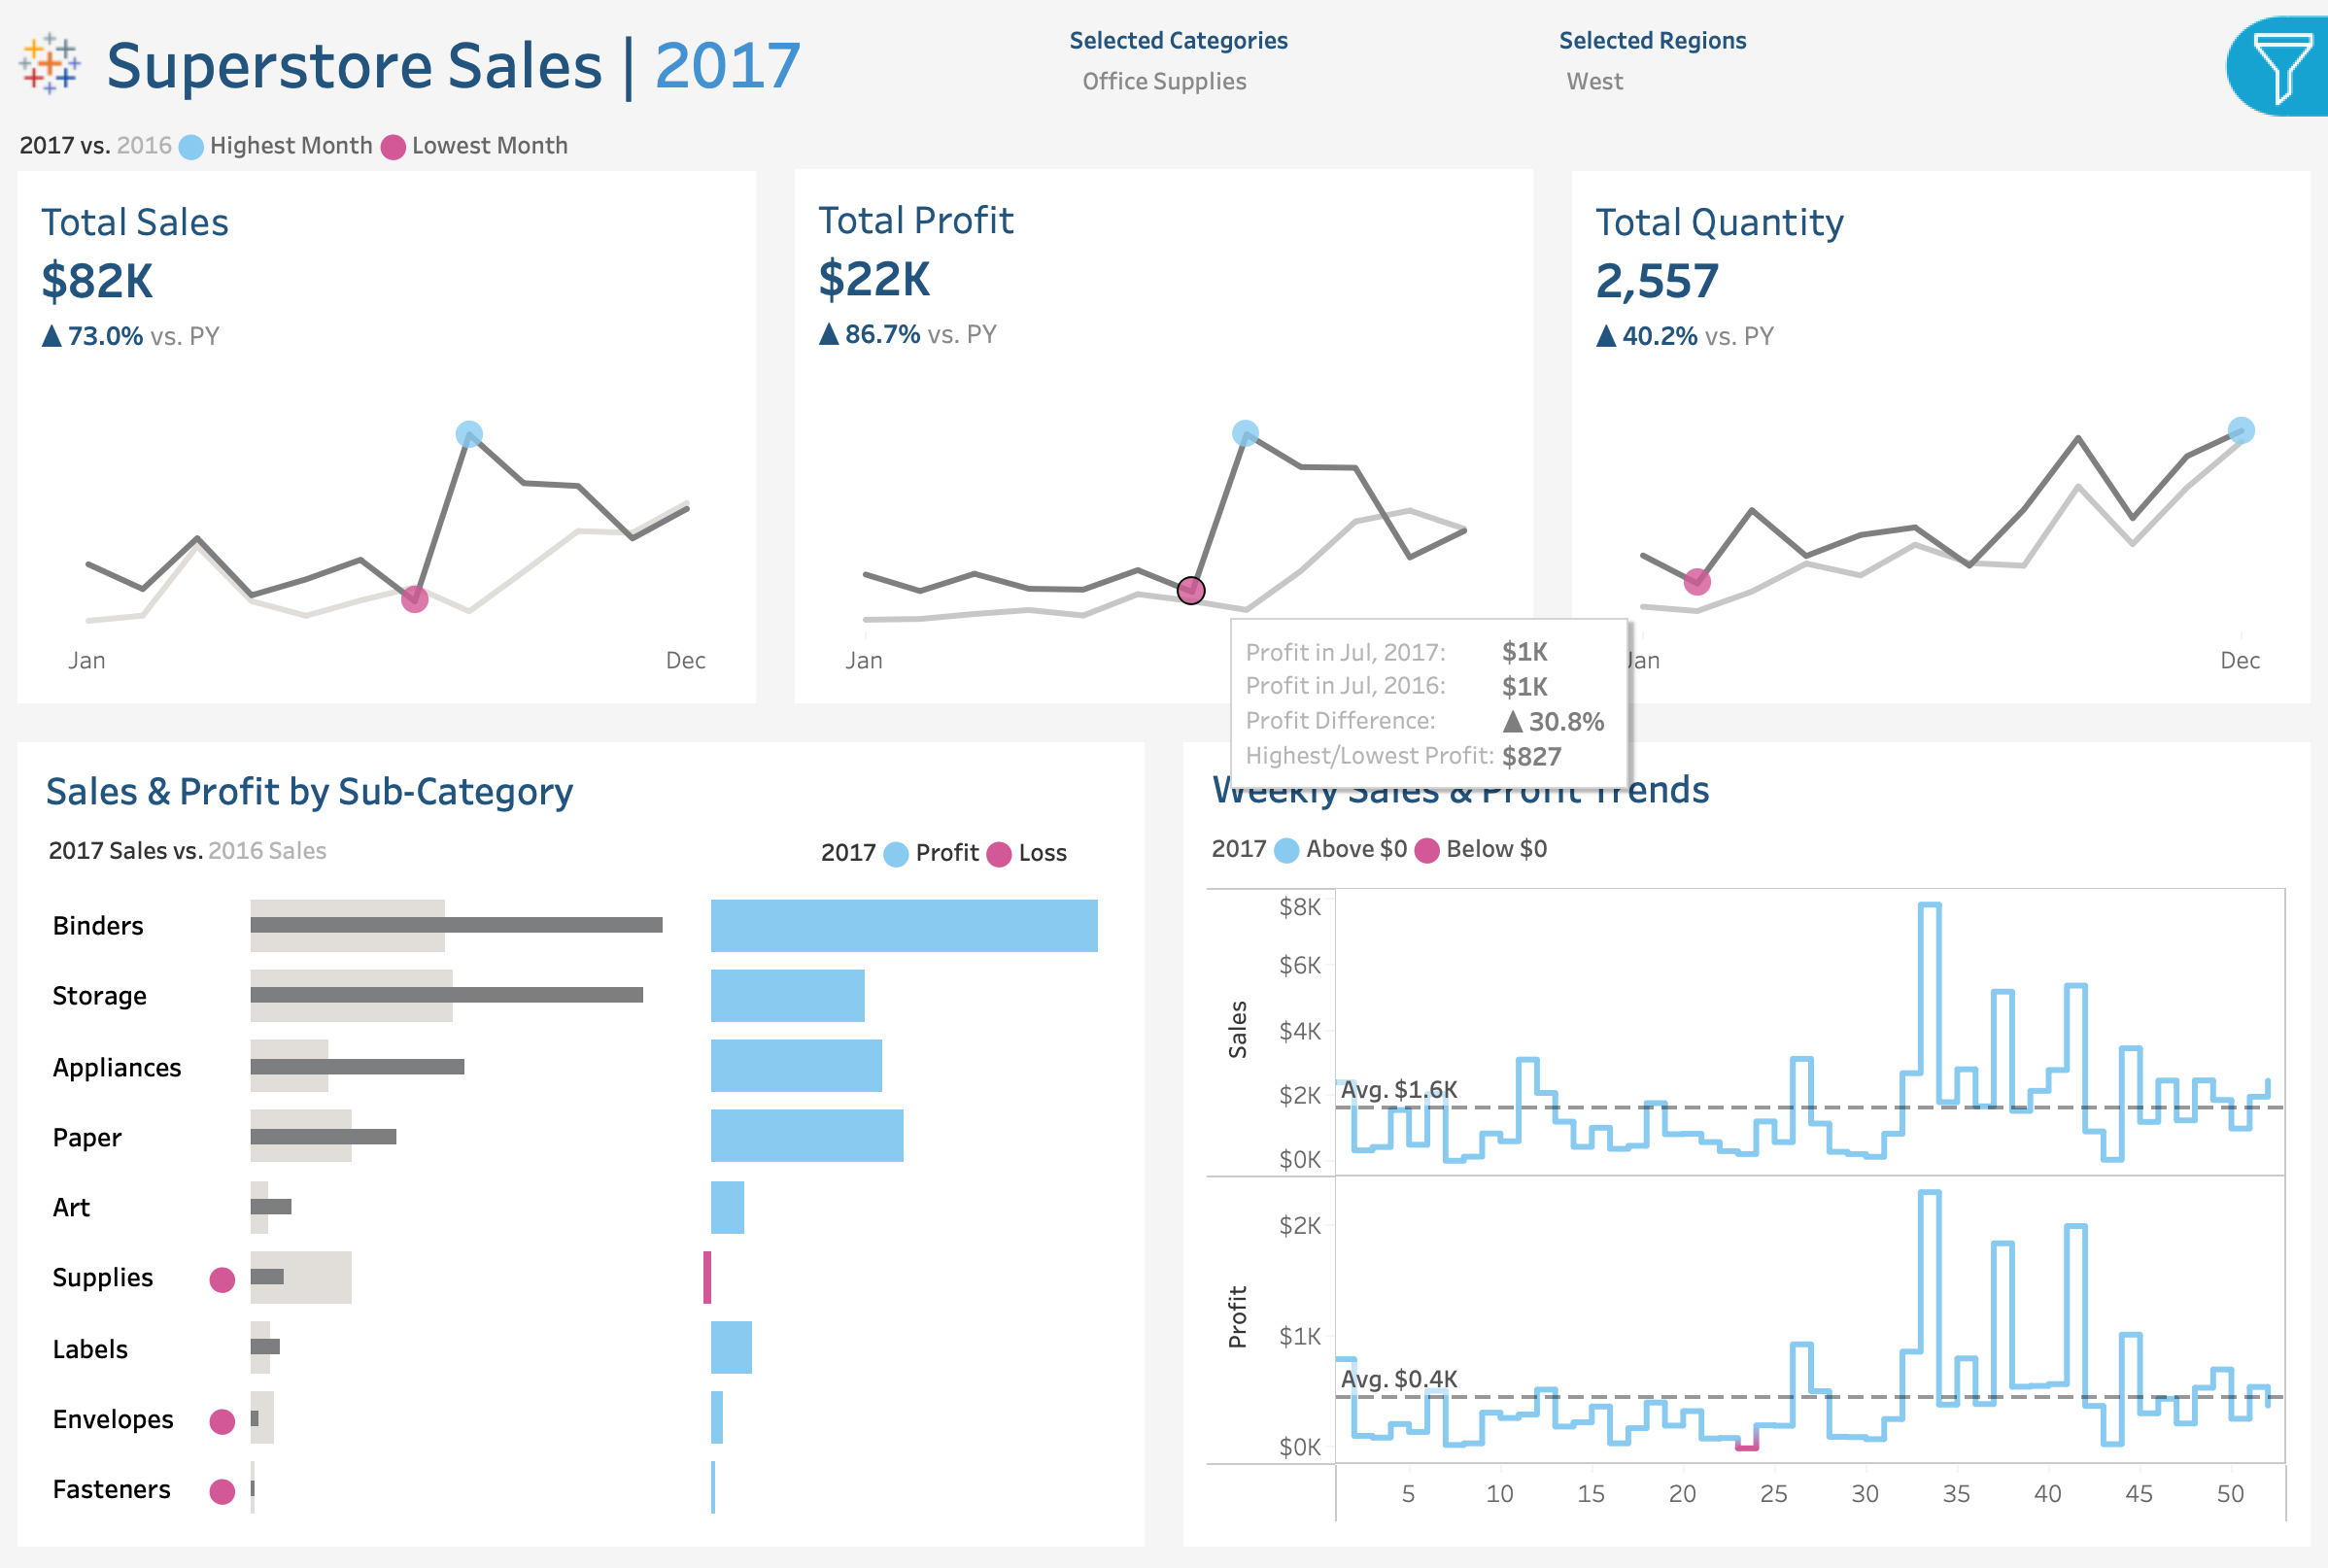

This screenshot's page, from the dashboard's own definition file:
{"tool":"tableau","page":{"name":"Sales Dashboard","canvas":[1200,800],"ordinal":0},"visuals":[{"type":"image","param":"Image/icons8-tableau-software-48.png","box":[0,0,49,55]},{"type":"text","box":[49,0,496,55]},{"type":"text","box":[545,0,252,23]},{"type":"text","box":[797,0,318,23]},{"type":"blank","box":[1115,0,85,55]},{"type":"dashboard-object","box":[1144,0,56,56]},{"type":"text","box":[1013,6,180,62]},{"type":"worksheet","title":"Legend Categories","mark":"Text","box":[545,23,252,32]},{"type":"worksheet","title":"Legend Regions","mark":"Text","box":[797,23,318,32]},{"type":"worksheet","title":"Legend KPI","mark":"Automatic","box":[0,55,1200,27]},{"type":"blank","box":[0,55,1200,27]},{"type":"text","box":[1013,68,180,30]},{"type":"worksheet","title":"BAN – Total Profit","mark":"Automatic","box":[400,81,400,105]},{"type":"worksheet","title":"KPI Sales","mark":"Automatic","rows":["Calculation_979321875793559552"],"cols":["Order Date"],"box":[0,82,400,284]},{"type":"worksheet","title":"BAN – Total Sales","mark":"Automatic","box":[0,82,400,105]},{"type":"worksheet","title":"KPI Profit","mark":"Automatic","rows":["Min/Max Sales (copy)_1042442639353384962"],"cols":["Order Date"],"box":[400,82,400,284]},{"type":"worksheet","title":"KPI Quantity","mark":"Automatic","rows":["Min/Max Profit (copy)_1042442639354253315"],"cols":["Order Date"],"box":[800,82,400,284]},{"type":"worksheet","title":"BAN – Total Quantity","mark":"Automatic","box":[800,82,400,105]},{"type":"parameter","param":"[Parameters].[Parameter 1]","box":[1013,98,180,108]},{"type":"text","box":[1013,206,180,26]},{"type":"filter","title":"KPI Sales","param":"[federated.0lqmw2r106eo3c17d3hmc1hsvb22].[none:Sub-Category:nk]","box":[1013,232,180,52]},{"type":"filter","title":"KPI Sales","param":"[federated.0lqmw2r106eo3c17d3hmc1hsvb22].[none:Category:nk]","box":[1013,284,180,107]},{"type":"blank","box":[0,313,1200,135]},{"type":"text","box":[18,384,564,32]},{"type":"text","box":[618,384,564,31.5]},{"type":"filter","title":"Sub-Category Comparison","param":"[federated.0lqmw2r106eo3c17d3hmc1hsvb22].[none:Segment:nk]","box":[1013,391,180,106]},{"type":"text","box":[618,415.5,564,31.5]},{"type":"worksheet","title":"Legend Sub-category chart","mark":"Automatic","box":[18,416,399,32]},{"type":"text","box":[417,416,165,32]},{"type":"worksheet","title":"Weekly Trends","mark":"Automatic","rows":["Calculation_920704711875518464","Calculation_1029565159159435264"],"cols":["Order Date"],"box":[618,447,564,335]},{"type":"worksheet","title":"Sub-Category Comparison","mark":"Bar","rows":["Sub-Category","Calculation_1320680654078144512"],"cols":["CY Sales (copy)_920704711876218881","Calculation_920704711875518464","Calculation_1029565159159435264"],"box":[18,448,564,334]},{"type":"blank","box":[101,449,30,341]},{"type":"blank","box":[620,452,68,294]},{"type":"text","box":[1013,497,180,26]},{"type":"filter","title":"KPI Sales","param":"[federated.0lqmw2r106eo3c17d3hmc1hsvb22].[none:State:nk]","box":[1013,523,180,52]},{"type":"filter","title":"KPI Sales","param":"[federated.0lqmw2r106eo3c17d3hmc1hsvb22].[none:Region:nk]","box":[1013,575,180,127]},{"type":"blank","box":[690,746,487,43]}]}

Visuals, with their boxes in screenshot pixels (x1, y1, x2, y2), scaled from the page's 1200x800 canvas onto the 2328x1568 screenshot:
image: Rect(0, 0, 95, 108)
text: Rect(95, 0, 1057, 108)
text: Rect(1057, 0, 1546, 45)
text: Rect(1546, 0, 2163, 45)
blank: Rect(2163, 0, 2327, 108)
dashboard-object: Rect(2219, 0, 2327, 110)
text: Rect(1966, 12, 2314, 133)
"Legend Categories" worksheet (Text marks): Rect(1057, 45, 1546, 108)
"Legend Regions" worksheet (Text marks): Rect(1546, 45, 2163, 108)
"Legend KPI" worksheet: Rect(0, 108, 2327, 160)
blank: Rect(0, 108, 2327, 160)
text: Rect(1966, 133, 2314, 192)
"BAN – Total Profit" worksheet: Rect(776, 158, 1552, 364)
"KPI Sales" worksheet: Rect(0, 160, 776, 717)
"BAN – Total Sales" worksheet: Rect(0, 160, 776, 366)
"KPI Profit" worksheet: Rect(776, 160, 1552, 717)
"KPI Quantity" worksheet: Rect(1552, 160, 2327, 717)
"BAN – Total Quantity" worksheet: Rect(1552, 160, 2327, 366)
parameter: Rect(1966, 192, 2314, 404)
text: Rect(1966, 404, 2314, 455)
"KPI Sales" filter: Rect(1966, 455, 2314, 557)
"KPI Sales" filter: Rect(1966, 557, 2314, 767)
blank: Rect(0, 613, 2327, 878)
text: Rect(35, 753, 1129, 815)
text: Rect(1199, 753, 2293, 814)
"Sub-Category Comparison" filter: Rect(1966, 767, 2314, 974)
text: Rect(1199, 814, 2293, 876)
"Legend Sub-category chart" worksheet: Rect(35, 815, 809, 878)
text: Rect(809, 815, 1129, 878)
"Weekly Trends" worksheet: Rect(1199, 876, 2293, 1533)
"Sub-Category Comparison" worksheet (Bar marks): Rect(35, 878, 1129, 1533)
blank: Rect(196, 880, 255, 1549)
blank: Rect(1203, 886, 1335, 1462)
text: Rect(1966, 974, 2314, 1025)
"KPI Sales" filter: Rect(1966, 1025, 2314, 1127)
"KPI Sales" filter: Rect(1966, 1127, 2314, 1376)
blank: Rect(1339, 1462, 2283, 1547)
